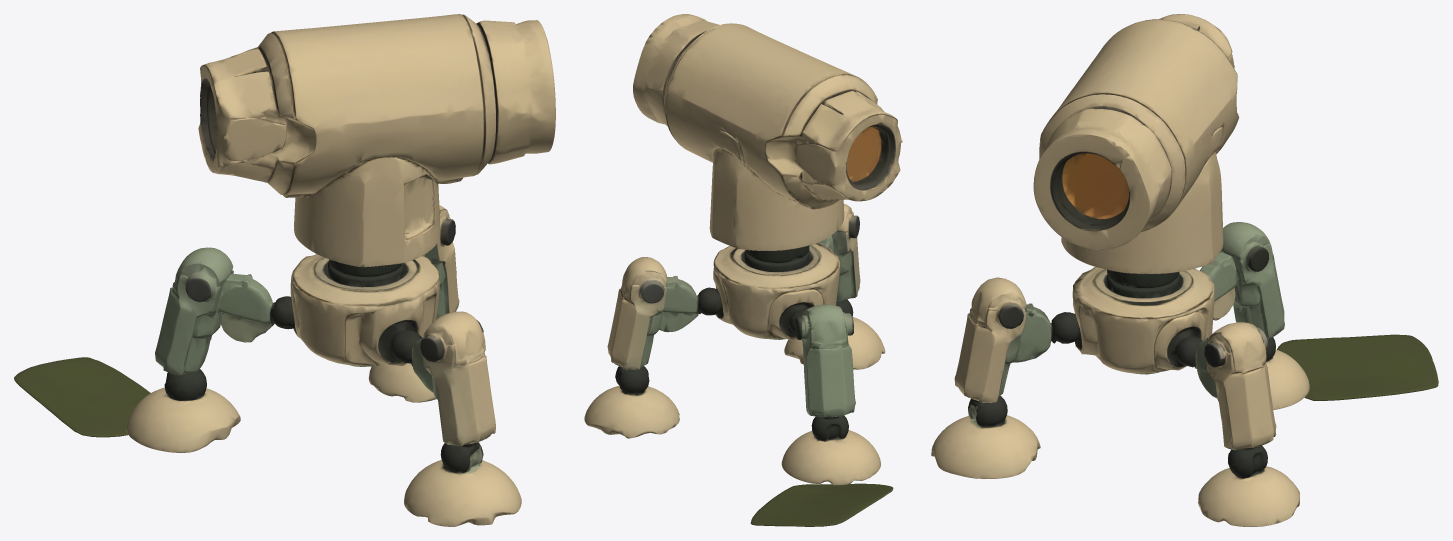
3 renders of one model, left to right at view 1: azimuth 30°, elevation 25°; view 2: azimuth 150°, elevation 25°; view 3: azimuth 270°, elevation 25°, orthographic. The views are drawn at different scales.
Visible parts, largest first — view 1: tripo_node_75908627-606e-4432-80ae-51fdb4f03bbf; view 2: tripo_node_75908627-606e-4432-80ae-51fdb4f03bbf; view 3: tripo_node_75908627-606e-4432-80ae-51fdb4f03bbf.
Boxes of the visible parts, bbox=[...] form: tripo_node_75908627-606e-4432-80ae-51fdb4f03bbf: bbox=[14, 14, 555, 526]; tripo_node_75908627-606e-4432-80ae-51fdb4f03bbf: bbox=[584, 14, 902, 526]; tripo_node_75908627-606e-4432-80ae-51fdb4f03bbf: bbox=[931, 14, 1438, 526].
Size of the model in its own units: 0.8229 by 0.8673 by 1.
Materials: 1 (1 with a texture image).
